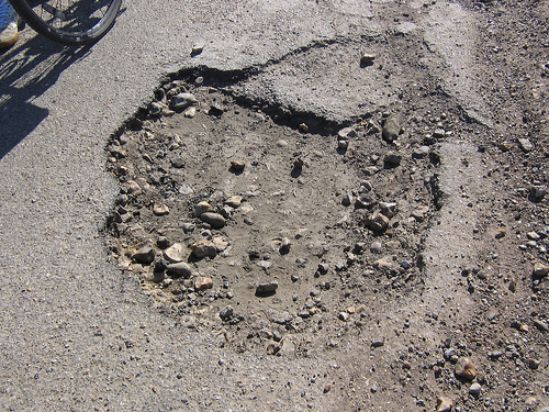pothole: (91, 52, 458, 357)
